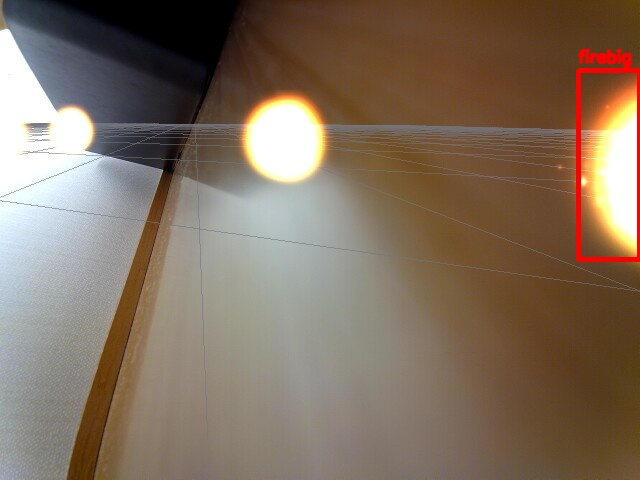firebig: (578, 70, 639, 259)
